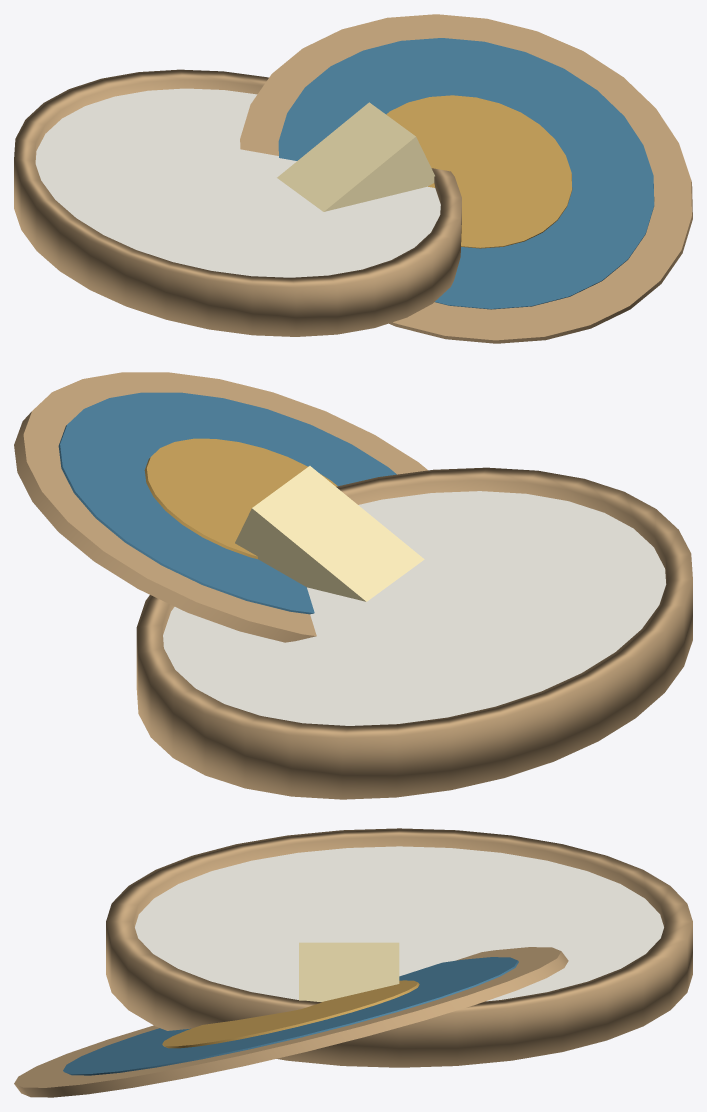
File: wp-meule-de-fromage.glb
3 views of the same model, one above another, from view 1: azimuth 30°, elevation 25°; view 2: azimuth 150°, elevation 25°; view 3: azimuth 270°, elevation 25° (orthographic). The views are drawn at different scales.
Visible parts, largest first — view 1: wp-meule-de-fromage; view 2: wp-meule-de-fromage; view 3: wp-meule-de-fromage.
Boxes of the visible parts, box(x1,y1,x2,y2) form: wp-meule-de-fromage: box(14, 14, 692, 343); wp-meule-de-fromage: box(14, 372, 692, 799); wp-meule-de-fromage: box(14, 828, 692, 1097).
Size of the model in its own units: 0.2639 by 0.0722 by 0.2754.
